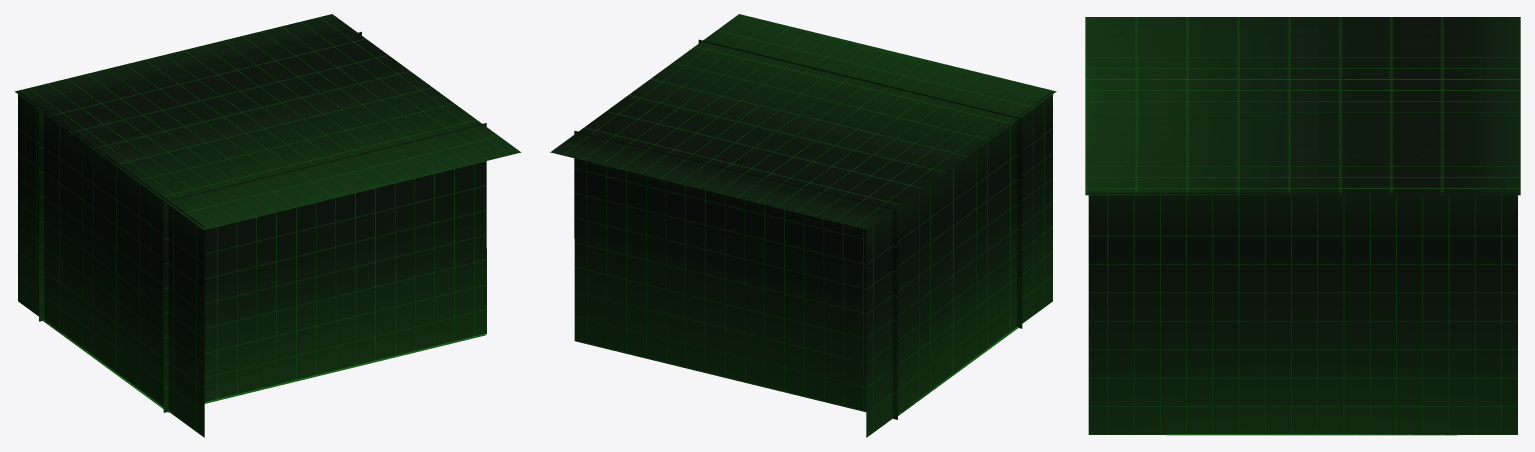
The model's file is Stage0_3D_GREEN.glb.
3 renders of one model, left to right at view 1: azimuth 30°, elevation 25°; view 2: azimuth 150°, elevation 25°; view 3: azimuth 270°, elevation 25°, orthographic. The views are drawn at different scales.
Parts seen in each view (by area): view 1: Plane.001, Plane; view 2: Plane.001, Plane; view 3: Plane.001, Plane.
Part boxes in pixels (left/top/right/bottom): Plane.001: left=15, top=14, right=521, bottom=437; Plane: left=42, top=319, right=485, bottom=412; Plane.001: left=550, top=14, right=1056, bottom=437; Plane: left=578, top=326, right=1019, bottom=418; Plane.001: left=1085, top=17, right=1520, bottom=434; Plane: left=1166, top=434, right=1457, bottom=435.
Bounding box in the file's own units: 39.08 × 24.36 × 39.61.
2 materials, 2 textured.
